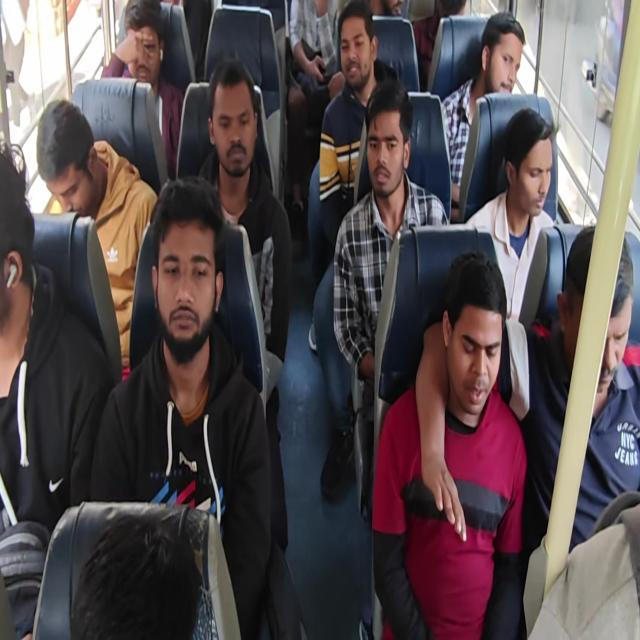person: (1, 1, 638, 638), (88, 175, 301, 638), (416, 224, 640, 636), (331, 78, 450, 637), (372, 250, 528, 638), (0, 142, 112, 638), (196, 58, 293, 554), (36, 98, 158, 381), (464, 107, 556, 329), (318, 1, 399, 250), (440, 11, 526, 214), (70, 512, 200, 639), (100, 0, 183, 179), (286, 0, 343, 216), (412, 0, 466, 90)
